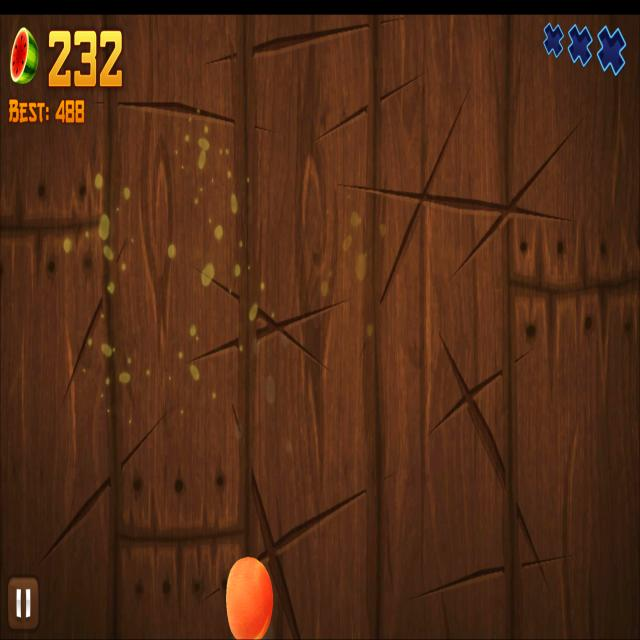fruit: (225, 554, 273, 639)
